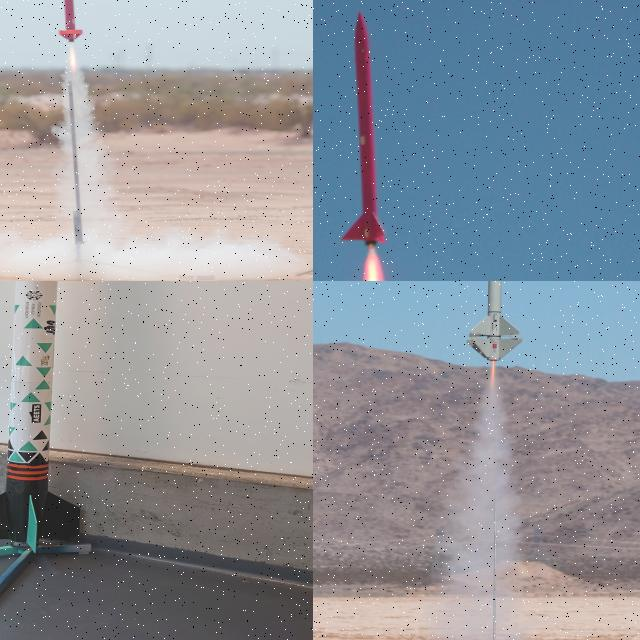Rocket: (0, 281, 80, 553), (342, 11, 388, 248), (464, 281, 524, 361), (58, 0, 84, 43)
